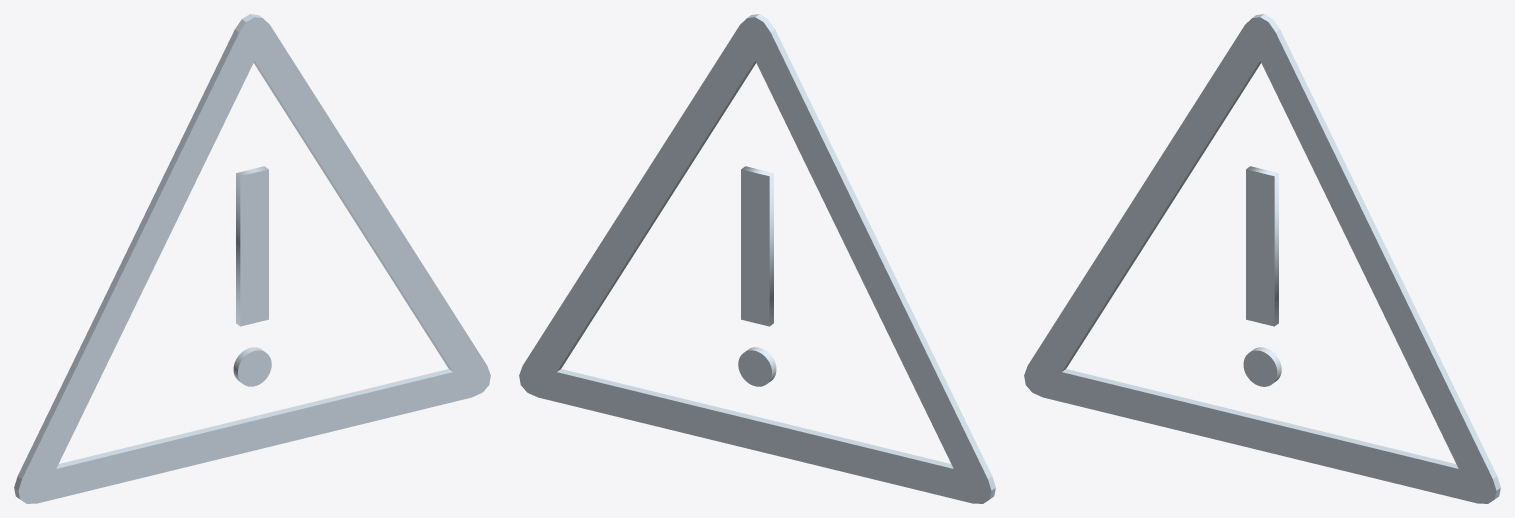
Rendered from Warning_3D_Icon.fbx.
3 views of the same model, side by side, from view 1: azimuth 30°, elevation 25°; view 2: azimuth 150°, elevation 25°; view 3: azimuth 330°, elevation 25° (orthographic).
Parts seen in each view (by area): view 1: Warning_3D_Icon; view 2: Warning_3D_Icon; view 3: Warning_3D_Icon.
Boxes of the visible parts, x1,y1,x2,y2 form: Warning_3D_Icon: (14,14,490,503); Warning_3D_Icon: (519,14,995,503); Warning_3D_Icon: (1024,14,1500,503).
Size of the model in its own units: 118 by 103 by 1.9.
